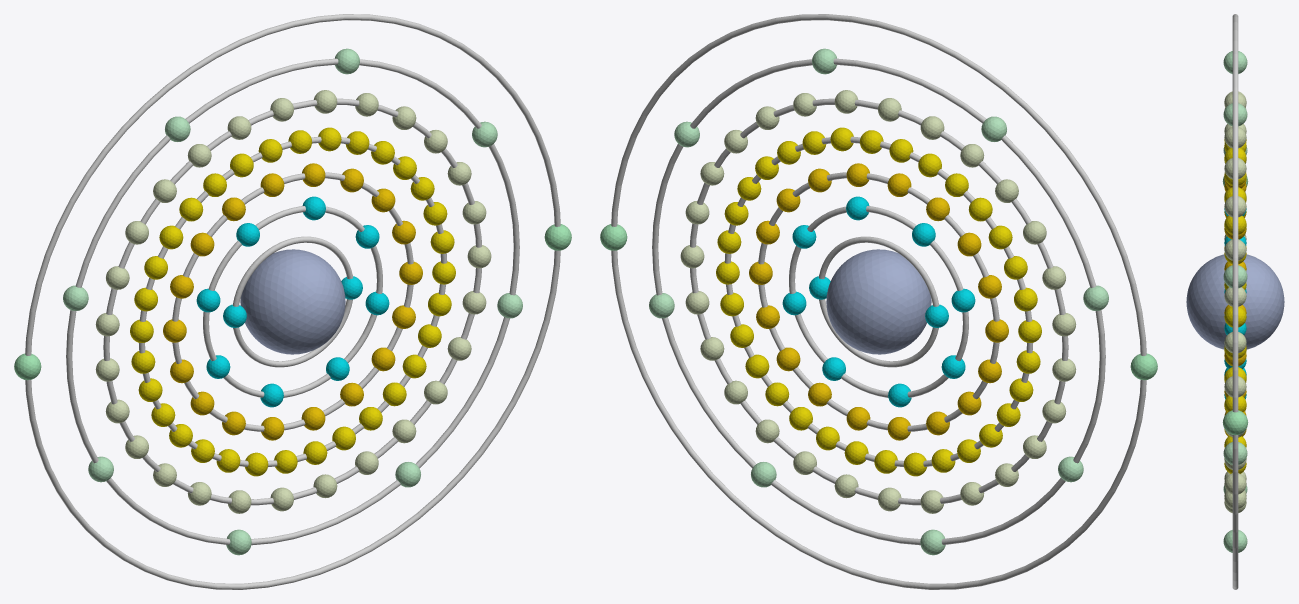
3 renders of one model, left to right at view 1: azimuth 30°, elevation 25°; view 2: azimuth 150°, elevation 25°; view 3: azimuth 270°, elevation 25°, orthographic. The views are drawn at different scales.
Visible parts, largest first — view 1: world; view 2: world; view 3: world.
Part boxes in pixels (x1,y1,x2,y2): world: [14, 14, 571, 589]; world: [600, 14, 1157, 589]; world: [1186, 14, 1284, 589].
Size of the model in its own units: 2.67 by 2.59 by 0.44.
